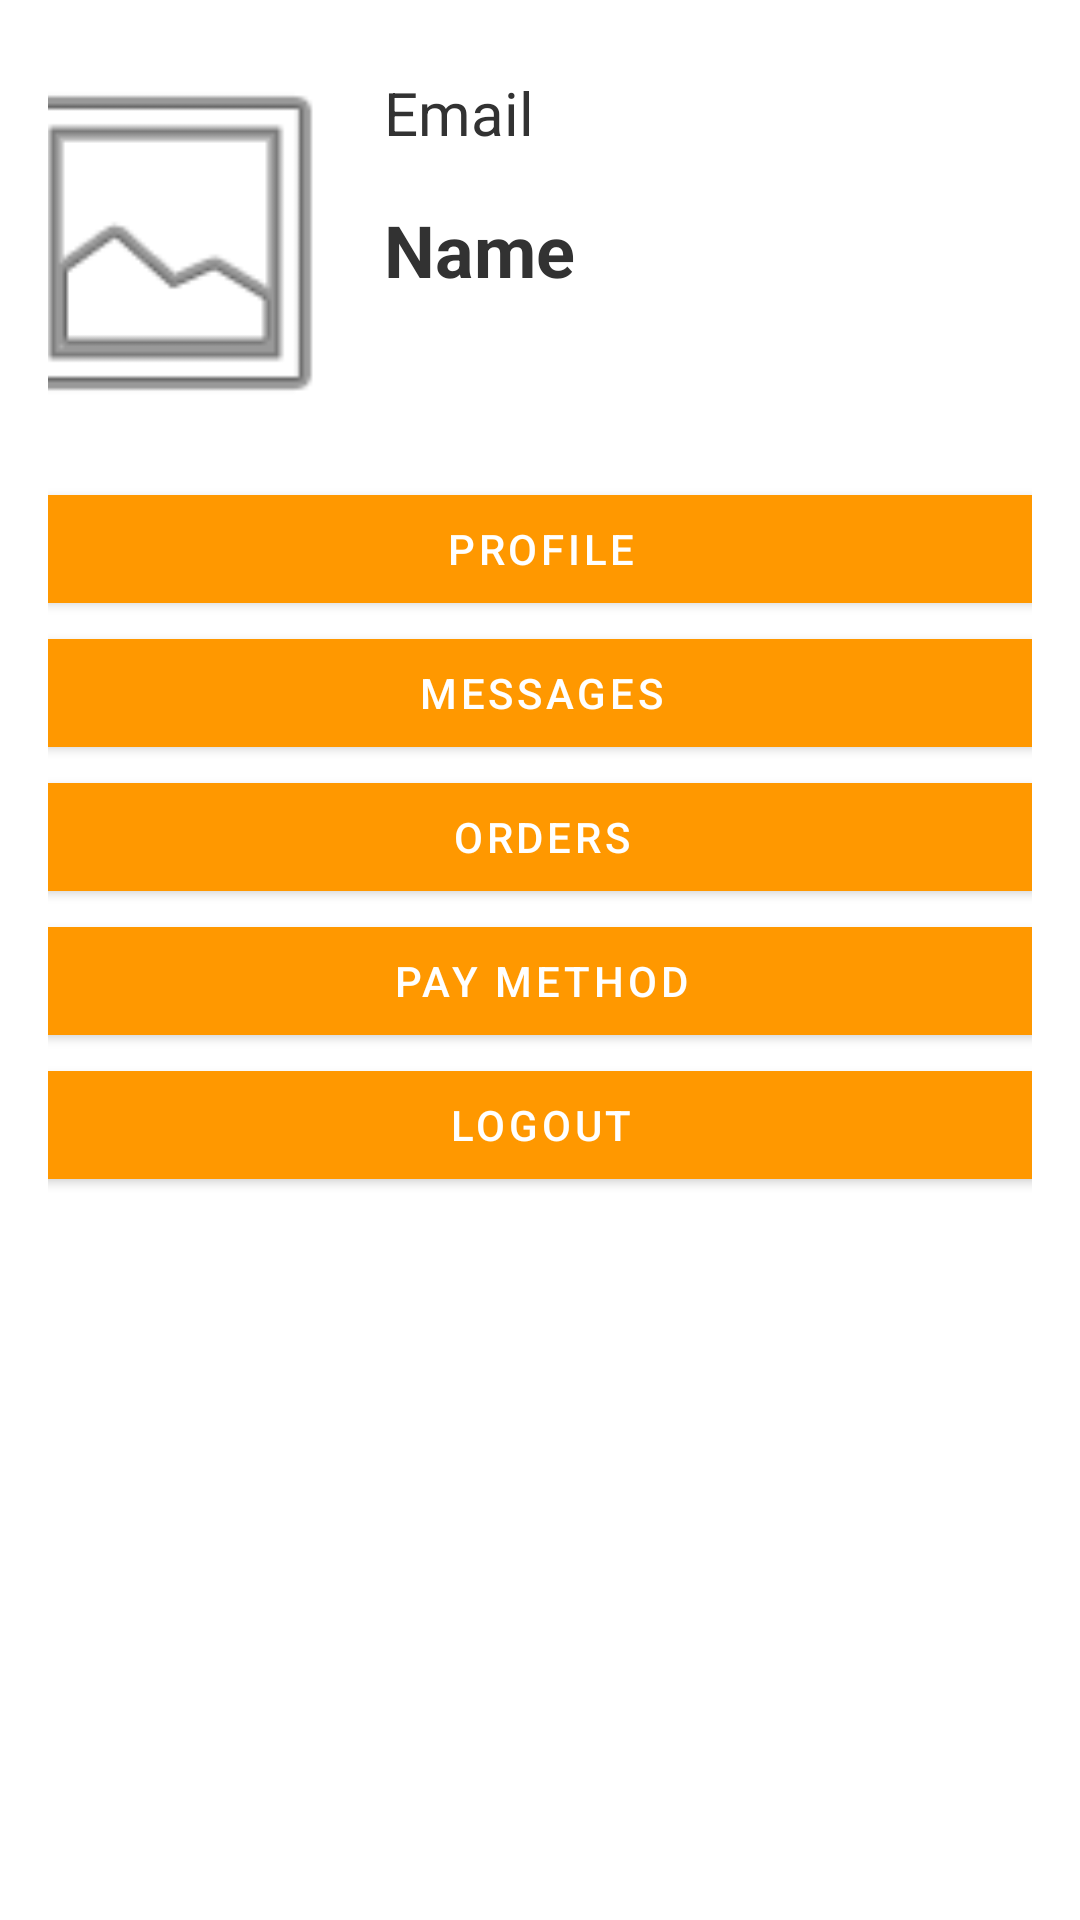

Screen size 1080 x 1920. Icon name, then its center in pixels as [x,y]:
gallery: [180,243]
